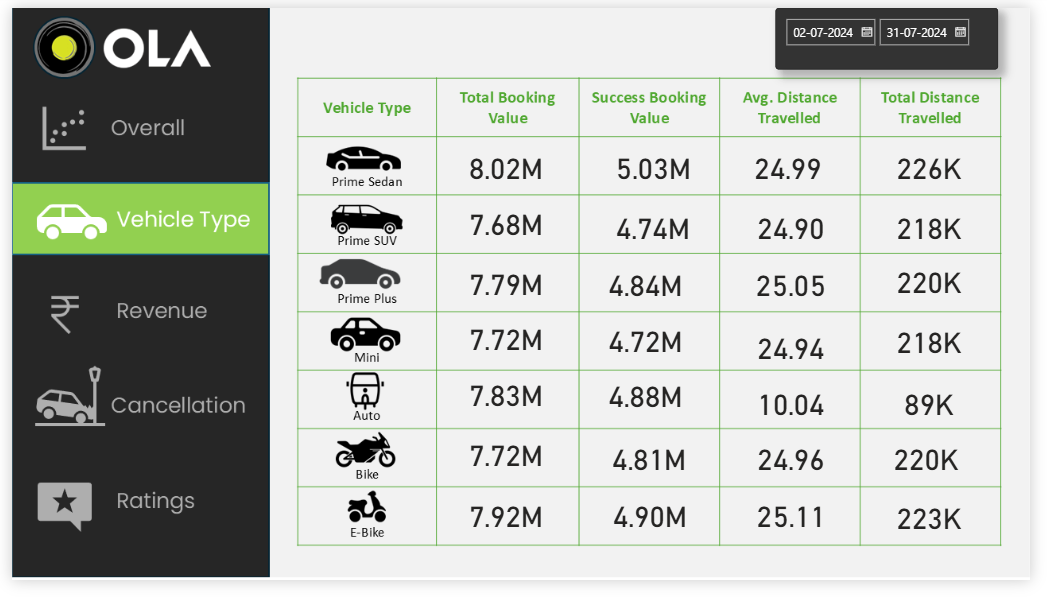

This screenshot's page, from the dashboard's own definition file:
{"tool":"powerbi","page":{"name":"Vehicle Type","canvas":[1280,720],"ordinal":1},"visuals":[{"type":"actionButton","box":[0,621.9,324.5,98.6],"z":0},{"type":"actionButton","box":[0,345.2,324.5,90.7],"z":1000},{"type":"actionButton","box":[0,447,324.5,101.8],"z":2000},{"type":"actionButton","box":[0,579,324.5,85.9],"z":3000},{"type":"card","fields":{"Values":["Sum(July.Booking_Value)"]},"box":[534.8,309.9,173.9,69.9],"z":4000},{"type":"card","fields":{"Values":["Sum(July.Booking_Value)"]},"box":[534.8,234.3,173.9,69.9],"z":5000},{"type":"card","fields":{"Values":["Sum(July.Booking_Value)"]},"box":[544.3,234.3,173.9,9.4],"z":6000},{"type":"card","fields":{"Values":["Sum(July.Booking_Value)"]},"box":[534.8,164.4,173.9,69.9],"z":7000},{"type":"card","fields":{"Values":["Sum(July.Booking_Value)"]},"box":[534.8,379.8,173.9,69.9],"z":8000},{"type":"card","fields":{"Values":["Sum(July.Booking_Value)"]},"box":[534.8,449.8,173.9,69.9],"z":9000},{"type":"card","fields":{"Values":["Sum(July.Booking_Value)"]},"box":[534.8,519.7,173.9,81.3],"z":10000},{"type":"card","fields":{"Values":["Sum(July.Booking_Value)"]},"box":[534.8,600.9,173.9,69.9],"z":11000},{"type":"card","fields":{"Values":["Sum(July.Booking_Value)"]},"box":[718.1,164.4,173.9,69.9],"z":12000},{"type":"card","fields":{"Values":["Sum(July.Booking_Value)"]},"box":[718.1,240,173.9,69.9],"z":13000},{"type":"card","fields":{"Values":["Sum(July.Booking_Value)"]},"box":[708.7,311.8,173.9,69.9],"z":14000},{"type":"card","fields":{"Values":["Sum(July.Booking_Value)"]},"box":[708.7,381.7,173.9,69.9],"z":15000},{"type":"card","fields":{"Values":["Sum(July.Booking_Value)"]},"box":[708.7,451.7,173.9,69.9],"z":16000},{"type":"card","fields":{"Values":["Sum(July.Booking_Value)"]},"box":[718.1,531,164.4,69.9],"z":17000},{"type":"card","fields":{"Values":["Sum(July.Booking_Value)"]},"box":[714.3,600.9,173.9,69.9],"z":18000},{"type":"card","fields":{"Values":["Avg(July.Ride_Distance)"]},"box":[888.2,164.4,173.9,69.9],"z":19000},{"type":"card","fields":{"Values":["Avg(July.Ride_Distance)"]},"box":[892,240,173.9,69.9],"z":20000},{"type":"card","fields":{"Values":["Avg(July.Ride_Distance)"]},"box":[892,311.8,173.9,69.9],"z":21000},{"type":"card","fields":{"Values":["Avg(July.Ride_Distance)"]},"box":[892,391.2,173.9,69.9],"z":22000},{"type":"card","fields":{"Values":["Avg(July.Ride_Distance)"]},"box":[892,461.1,173.9,69.9],"z":23000},{"type":"card","fields":{"Values":["Avg(July.Ride_Distance)"]},"box":[892,531,173.9,69.9],"z":24000},{"type":"card","fields":{"Values":["Avg(July.Ride_Distance)"]},"box":[892,600.9,173.9,69.9],"z":25000},{"type":"card","fields":{"Values":["Sum(July.Ride_Distance)"]},"box":[1065.8,164.4,173.9,69.9],"z":26000},{"type":"card","fields":{"Values":["Sum(July.Ride_Distance)"]},"box":[1065.8,240,173.9,69.9],"z":27000},{"type":"card","fields":{"Values":["Sum(July.Ride_Distance)"]},"box":[1065.8,308,173.9,69.9],"z":28000},{"type":"card","fields":{"Values":["Sum(July.Ride_Distance)"]},"box":[1065.8,383.6,173.9,69.9],"z":29000},{"type":"card","fields":{"Values":["Sum(July.Ride_Distance)"]},"box":[1065.8,461.1,173.9,69.9],"z":30000},{"type":"card","fields":{"Values":["Sum(July.Ride_Distance)"]},"box":[1062.1,531,173.9,69.9],"z":31000},{"type":"card","fields":{"Values":["Sum(July.Ride_Distance)"]},"box":[1065.8,602.8,173.9,69.9],"z":32000},{"type":"slicer","title":"Date","fields":{"Values":["July.Date"]},"box":[960,0,279.7,77.5],"z":33000}]}

Visuals, with their boxes on the page's 1280x720 design canvas (x1, y1, x2, y2). These are canvas units, not pixel positions in the 1047x597 screenshot, which may show the page scaled, cropped or inside an application window:
actionButton: pyautogui.locateOnScreen(0, 622, 324, 720)
actionButton: pyautogui.locateOnScreen(0, 345, 324, 436)
actionButton: pyautogui.locateOnScreen(0, 447, 324, 549)
actionButton: pyautogui.locateOnScreen(0, 579, 324, 665)
card - Sum(July.Booking_Value): pyautogui.locateOnScreen(535, 310, 709, 380)
card - Sum(July.Booking_Value): pyautogui.locateOnScreen(535, 234, 709, 304)
card - Sum(July.Booking_Value): pyautogui.locateOnScreen(544, 234, 718, 244)
card - Sum(July.Booking_Value): pyautogui.locateOnScreen(535, 164, 709, 234)
card - Sum(July.Booking_Value): pyautogui.locateOnScreen(535, 380, 709, 450)
card - Sum(July.Booking_Value): pyautogui.locateOnScreen(535, 450, 709, 520)
card - Sum(July.Booking_Value): pyautogui.locateOnScreen(535, 520, 709, 601)
card - Sum(July.Booking_Value): pyautogui.locateOnScreen(535, 601, 709, 671)
card - Sum(July.Booking_Value): pyautogui.locateOnScreen(718, 164, 892, 234)
card - Sum(July.Booking_Value): pyautogui.locateOnScreen(718, 240, 892, 310)
card - Sum(July.Booking_Value): pyautogui.locateOnScreen(709, 312, 883, 382)
card - Sum(July.Booking_Value): pyautogui.locateOnScreen(709, 382, 883, 452)
card - Sum(July.Booking_Value): pyautogui.locateOnScreen(709, 452, 883, 522)
card - Sum(July.Booking_Value): pyautogui.locateOnScreen(718, 531, 882, 601)
card - Sum(July.Booking_Value): pyautogui.locateOnScreen(714, 601, 888, 671)
card - Avg(July.Ride_Distance): pyautogui.locateOnScreen(888, 164, 1062, 234)
card - Avg(July.Ride_Distance): pyautogui.locateOnScreen(892, 240, 1066, 310)
card - Avg(July.Ride_Distance): pyautogui.locateOnScreen(892, 312, 1066, 382)
card - Avg(July.Ride_Distance): pyautogui.locateOnScreen(892, 391, 1066, 461)
card - Avg(July.Ride_Distance): pyautogui.locateOnScreen(892, 461, 1066, 531)
card - Avg(July.Ride_Distance): pyautogui.locateOnScreen(892, 531, 1066, 601)
card - Avg(July.Ride_Distance): pyautogui.locateOnScreen(892, 601, 1066, 671)
card - Sum(July.Ride_Distance): pyautogui.locateOnScreen(1066, 164, 1240, 234)
card - Sum(July.Ride_Distance): pyautogui.locateOnScreen(1066, 240, 1240, 310)
card - Sum(July.Ride_Distance): pyautogui.locateOnScreen(1066, 308, 1240, 378)
card - Sum(July.Ride_Distance): pyautogui.locateOnScreen(1066, 384, 1240, 454)
card - Sum(July.Ride_Distance): pyautogui.locateOnScreen(1066, 461, 1240, 531)
card - Sum(July.Ride_Distance): pyautogui.locateOnScreen(1062, 531, 1236, 601)
card - Sum(July.Ride_Distance): pyautogui.locateOnScreen(1066, 603, 1240, 673)
"Date" slicer: pyautogui.locateOnScreen(960, 0, 1240, 78)
